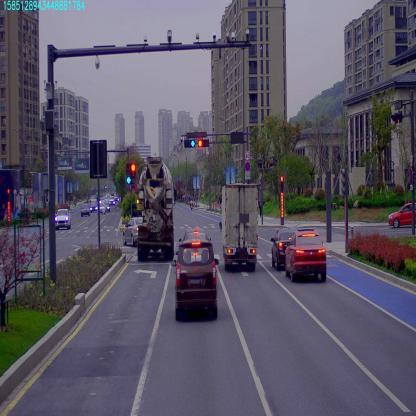traffic-light: (184, 140, 196, 147), (199, 139, 209, 147)
